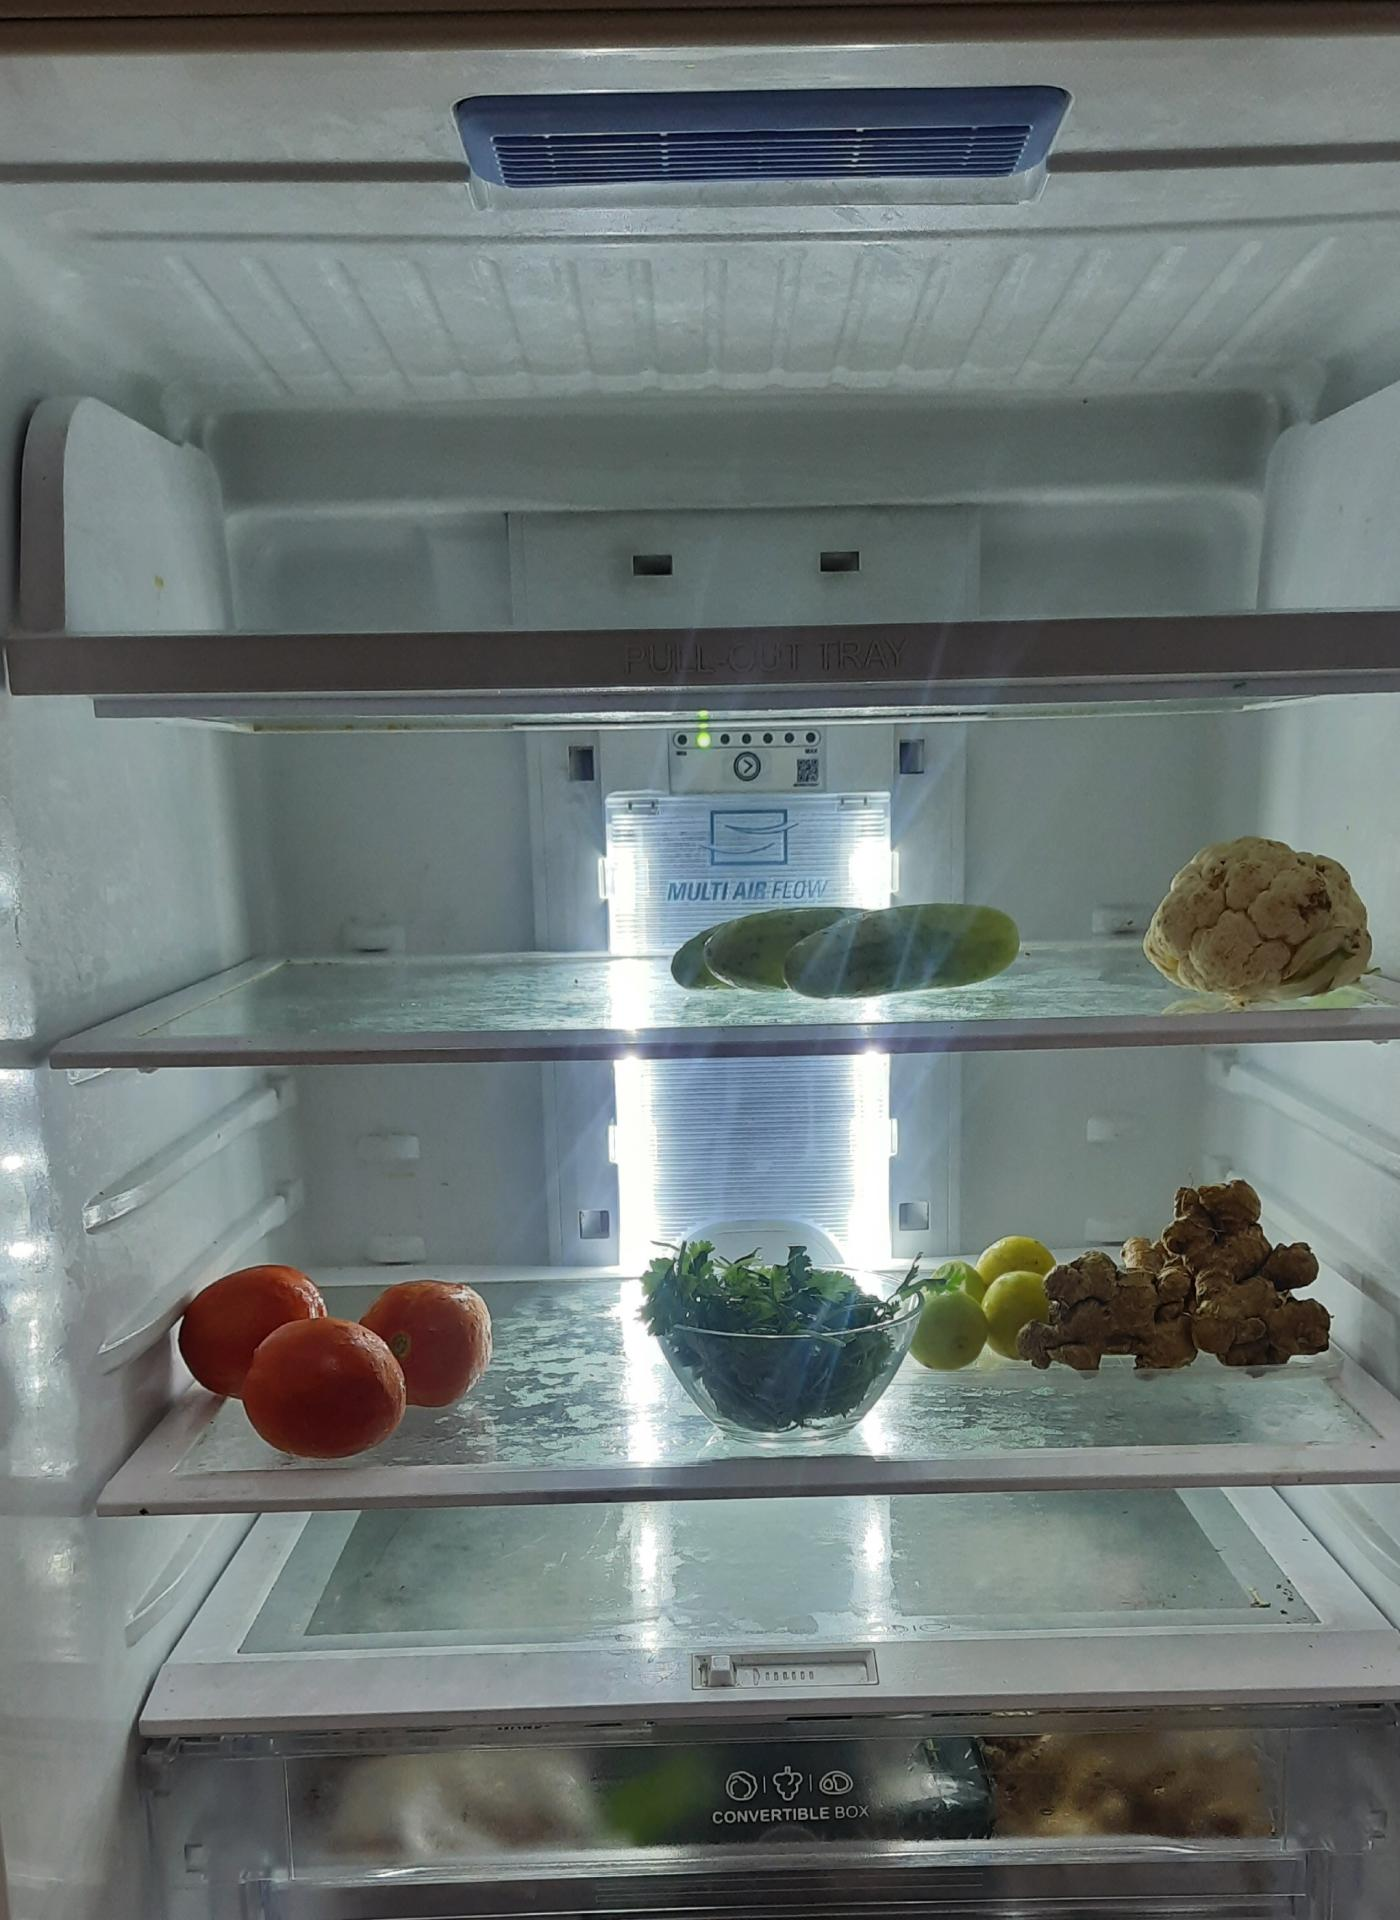cauliflower: (1133, 832, 1378, 1002)
coriander: (638, 1240, 921, 1431)
cucumber: (666, 897, 1035, 1006)
ginger: (1024, 1169, 1343, 1380)
lemon: (921, 1231, 1059, 1360)
tomato: (182, 1267, 498, 1456)
